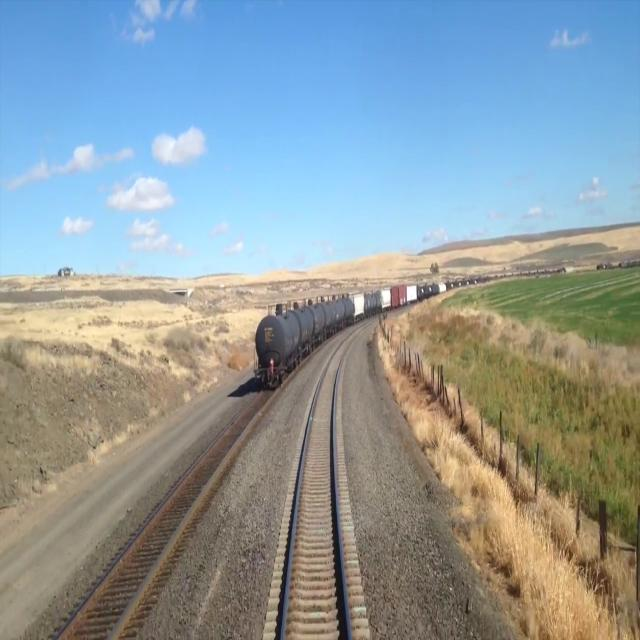rail-track: (60, 388, 273, 639), (284, 331, 357, 639)
